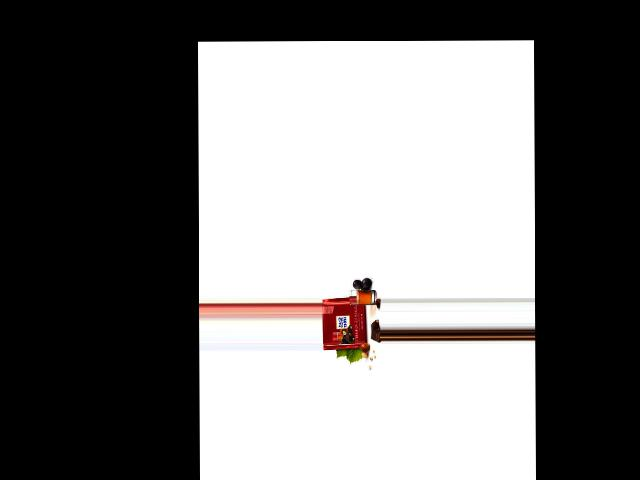chocolate: (323, 298, 366, 351)
